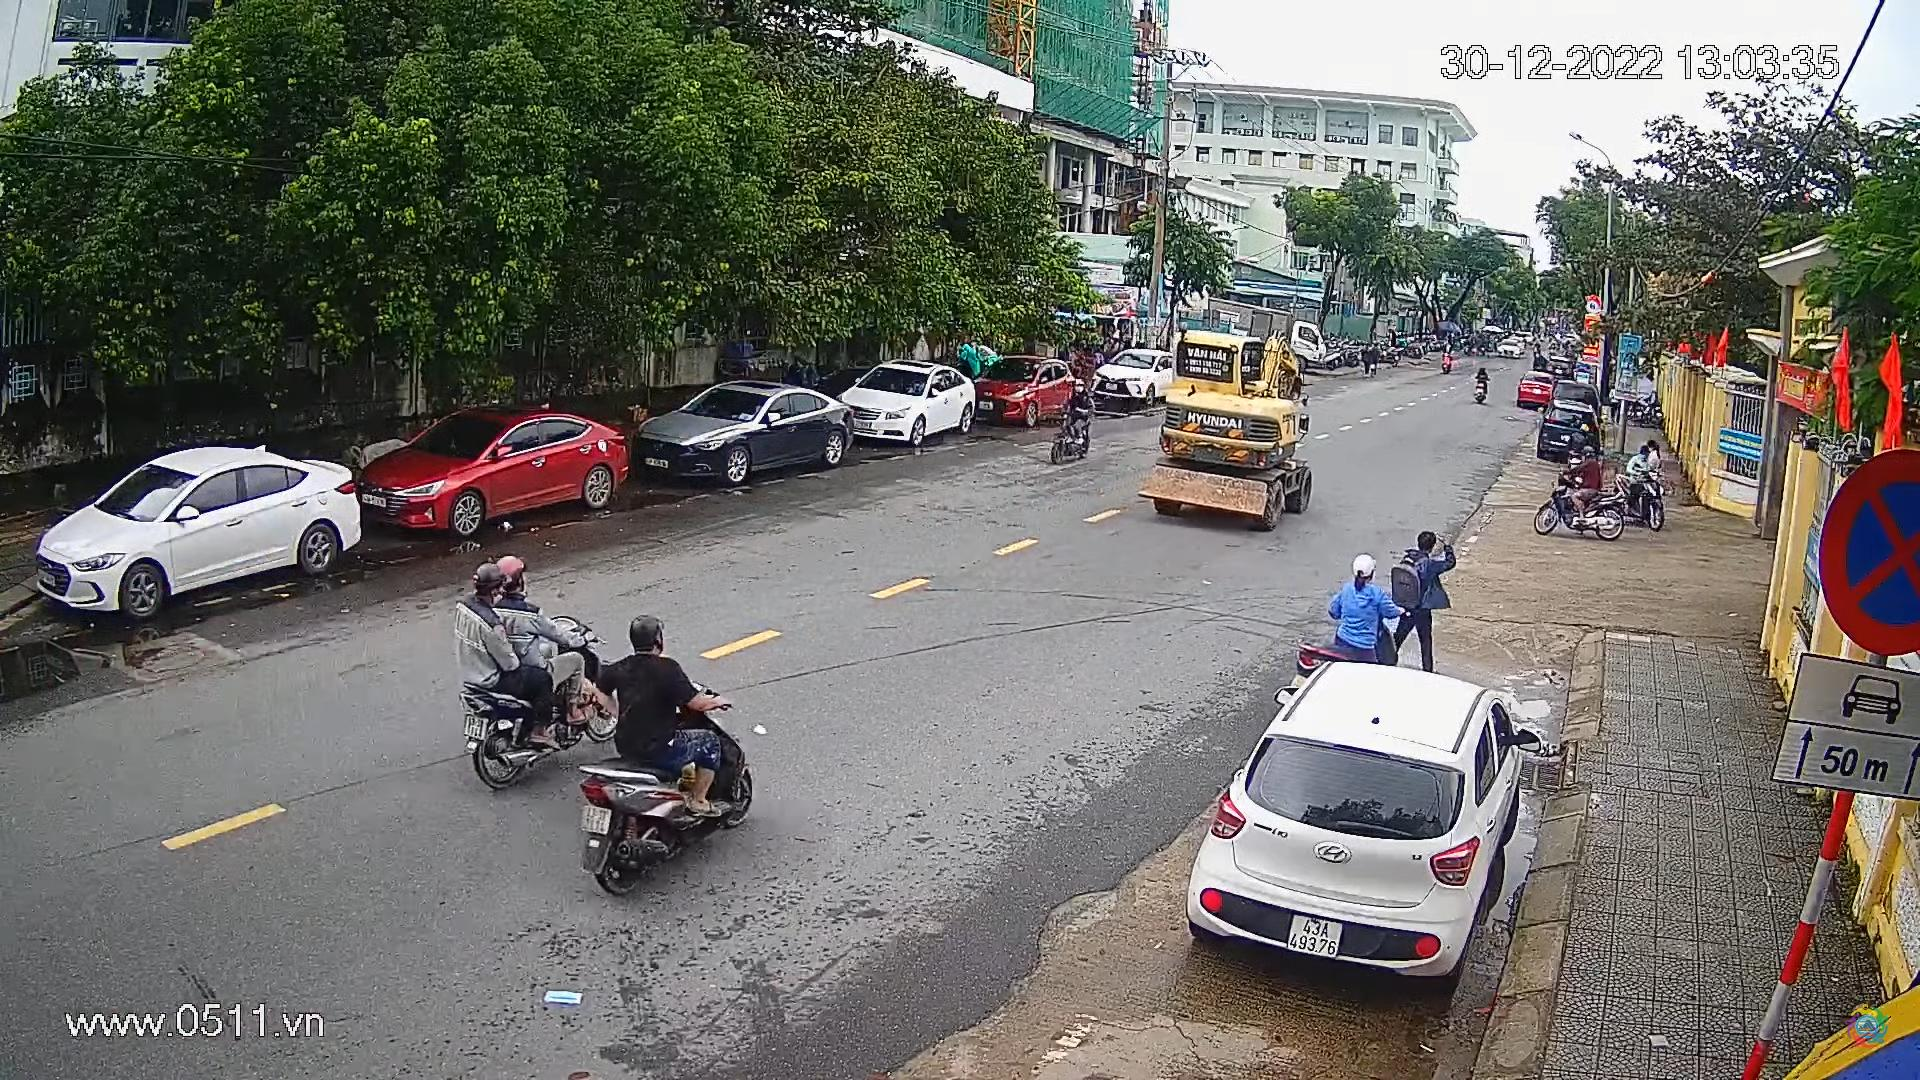excavator: (1151, 326, 1320, 526)
